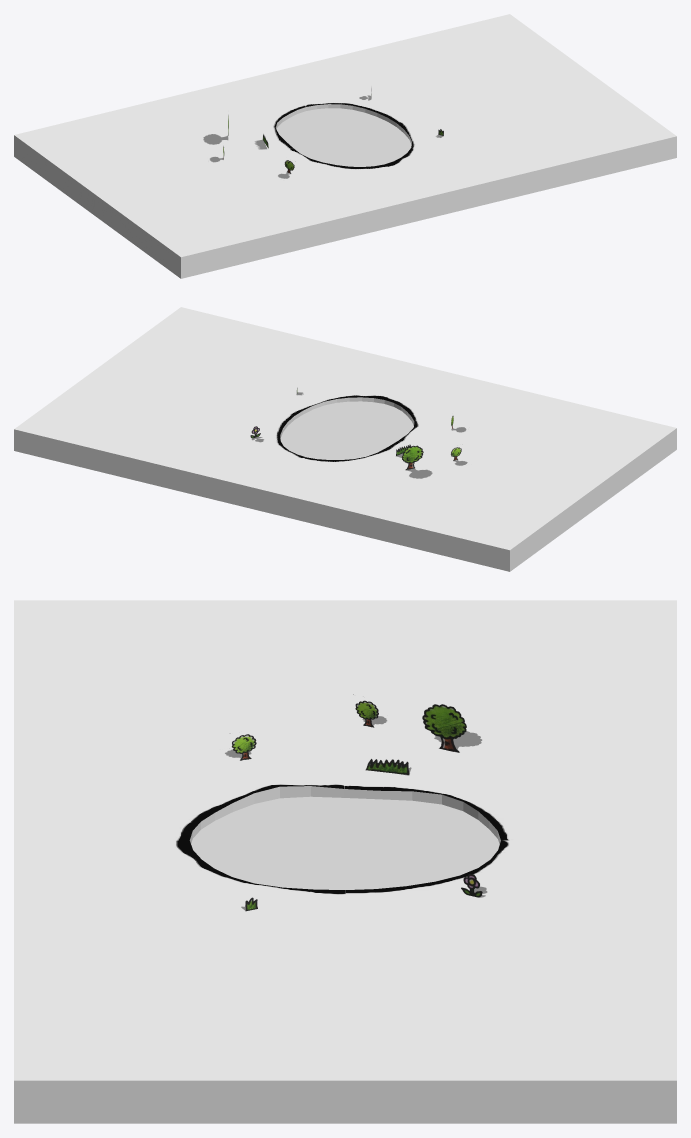
File: party.glb
The picture shows the model from 3 angles, top to bottom: view 1: azimuth 30°, elevation 25°; view 2: azimuth 150°, elevation 25°; view 3: azimuth 270°, elevation 25°; orthographic projection. The views are drawn at different scales.
Parts seen in each view (by area): view 1: Cube, Cube.001; view 2: Cube, Cube.001, Plane.001; view 3: Cube, Cube.001, Plane.001.
Part boxes in pixels (<box>): Cube: <box>14,14,676,278</box>; Cube.001: <box>276,108,411,166</box>; Cube: <box>14,307,676,571</box>; Cube.001: <box>280,401,413,459</box>; Plane.001: <box>402,445,432,478</box>; Cube: <box>14,600,676,1123</box>; Cube.001: <box>191,796,499,889</box>; Plane.001: <box>422,704,482,752</box>.
Bounding box in the file's own units: 40.8 × 3.76 × 23.8.
Materials: 5 (5 with a texture image).
